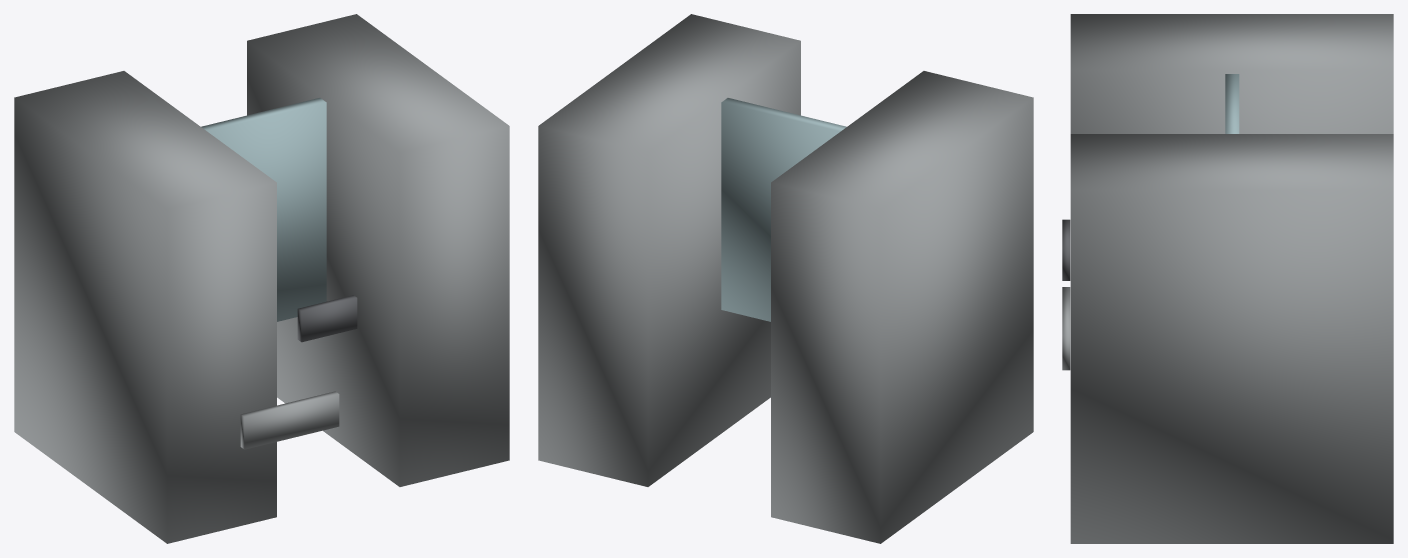
File: fare_gate__weathered.glb
3 renders of one model, left to right at view 1: azimuth 30°, elevation 25°; view 2: azimuth 150°, elevation 25°; view 3: azimuth 270°, elevation 25°, orthographic. The views are drawn at different scales.
Visible parts, largest first — view 1: world; view 2: world; view 3: world.
Part boxes in pixels (x1,y1,x2,y2): world: (14,14,509,543); world: (538,14,1033,543); world: (1062,14,1393,543).
Size of the model in its own units: 1.06 by 0.99 by 0.8417.
